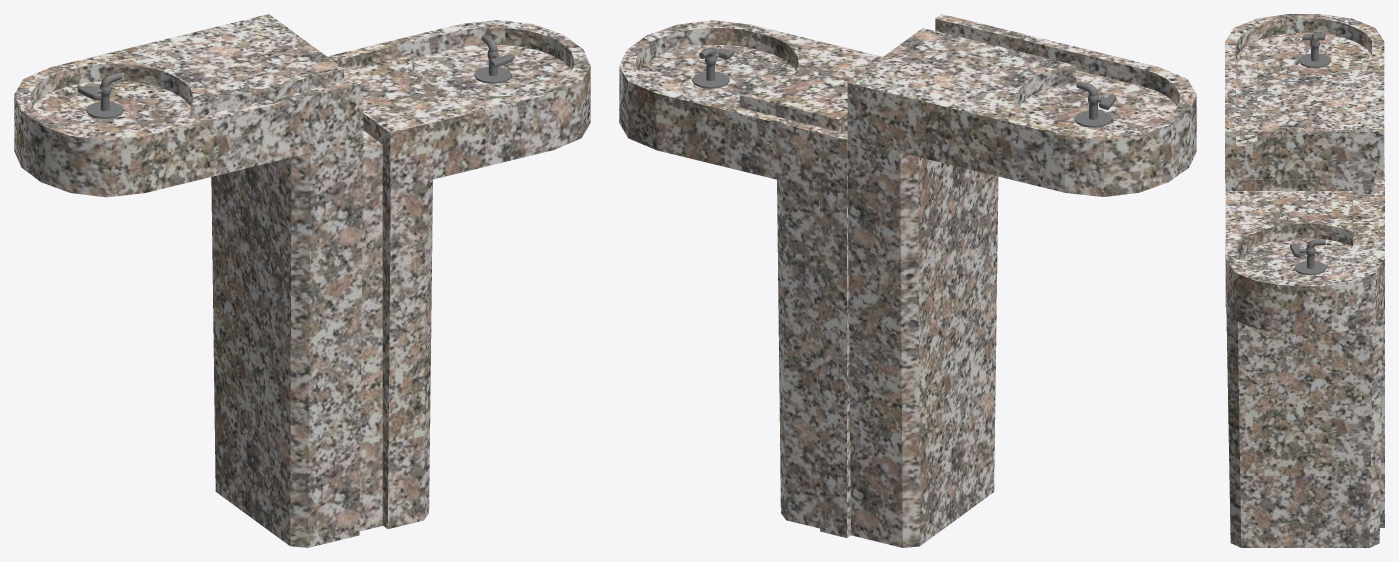
File: Bebedero.obj
3 renders of one model, left to right at view 1: azimuth 30°, elevation 25°; view 2: azimuth 150°, elevation 25°; view 3: azimuth 270°, elevation 25°, orthographic. The views are drawn at different scales.
Parts seen in each view (by area): view 1: bebedero Circle01, Circle07 bebedero; view 2: bebedero Circle01, Circle07 bebedero; view 3: bebedero Circle01, Circle07 bebedero.
Boxes of the visible parts, x1,y1,x2,y2 form: bebedero Circle01: (14, 14, 590, 547); Circle07 bebedero: (77, 35, 513, 118); bebedero Circle01: (619, 14, 1196, 547); Circle07 bebedero: (692, 47, 1115, 127); bebedero Circle01: (1225, 14, 1384, 547); Circle07 bebedero: (1290, 32, 1330, 275).
Bounding box in the file's own units: 4.46 × 3.71 × 1.34.
Materials: 2 (1 with a texture image).
